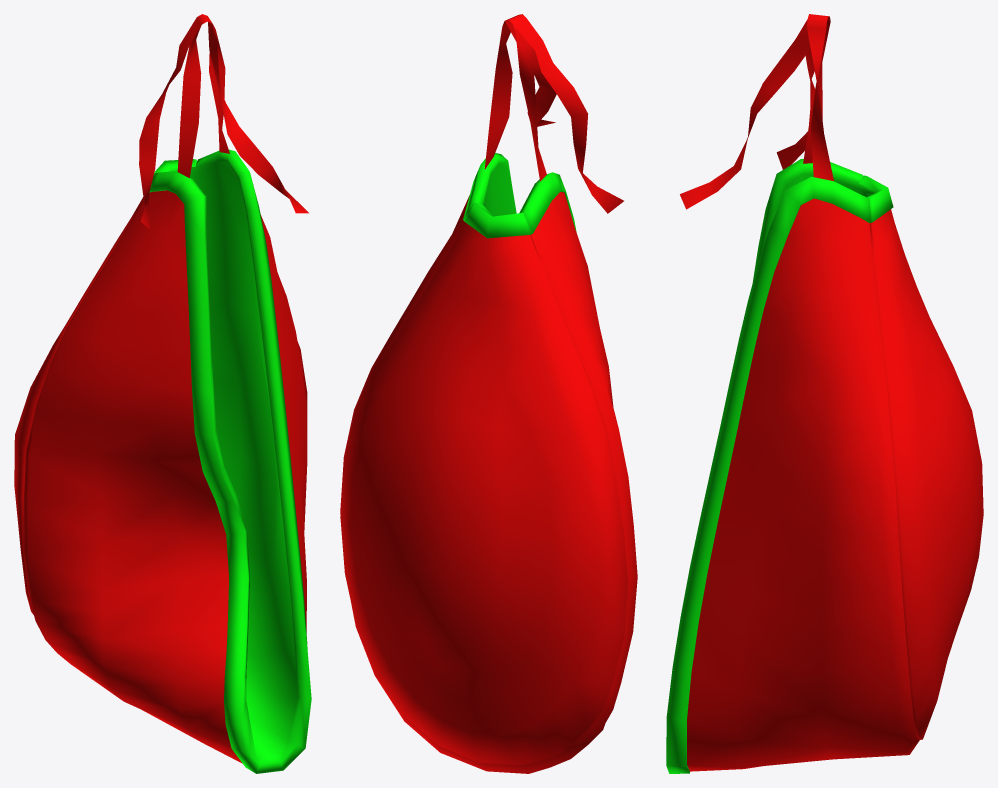
Rendered from Safety_Cap.FBX.
3 views of the same model, side by side, from view 1: azimuth 30°, elevation 25°; view 2: azimuth 150°, elevation 25°; view 3: azimuth 270°, elevation 25° (orthographic). The views are drawn at different scales.
Parts seen in each view (by area): view 1: Cap; view 2: Cap; view 3: Cap.
Boxes of the visible parts, left/top/right/bottom form: Cap: left=14, top=14, right=311, bottom=773; Cap: left=340, top=14, right=637, bottom=773; Cap: left=666, top=14, right=983, bottom=773.
Bounding box in the file's own units: 5.74 × 13.73 × 5.23.
